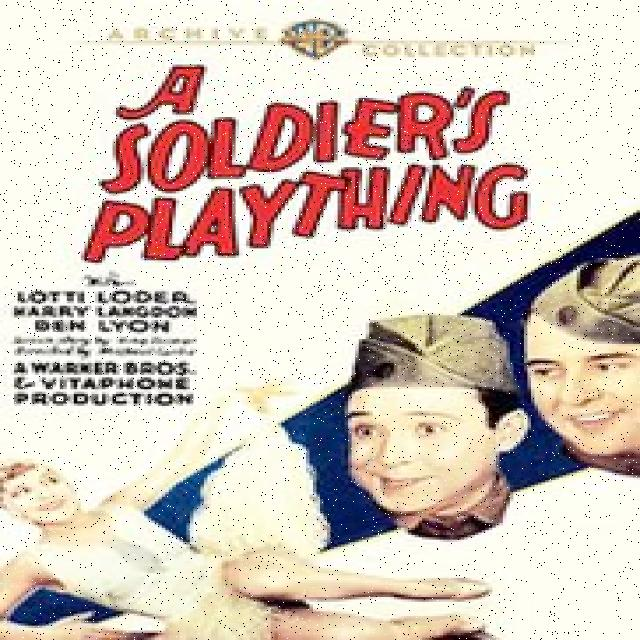movie-judul: (77, 61, 571, 264)
picture: (0, 210, 638, 640)
